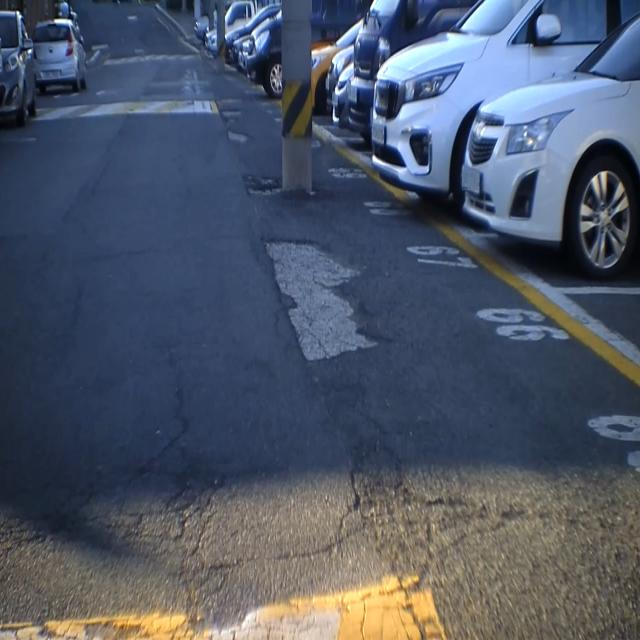Pothole: (258, 228, 394, 372), (223, 126, 252, 148), (219, 106, 244, 122)
